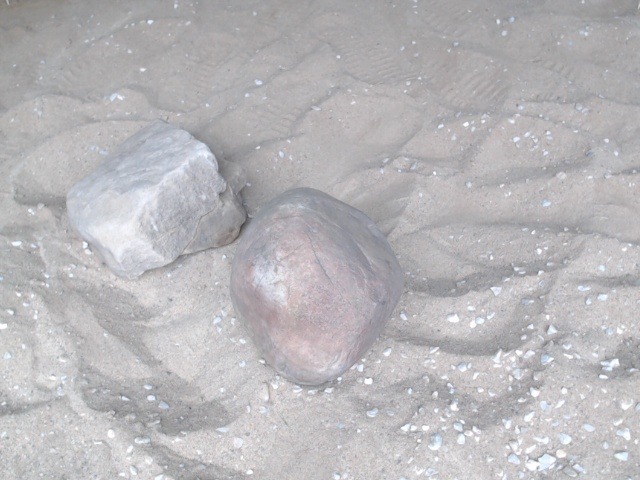rock: (222, 181, 410, 395), (61, 114, 251, 284)
